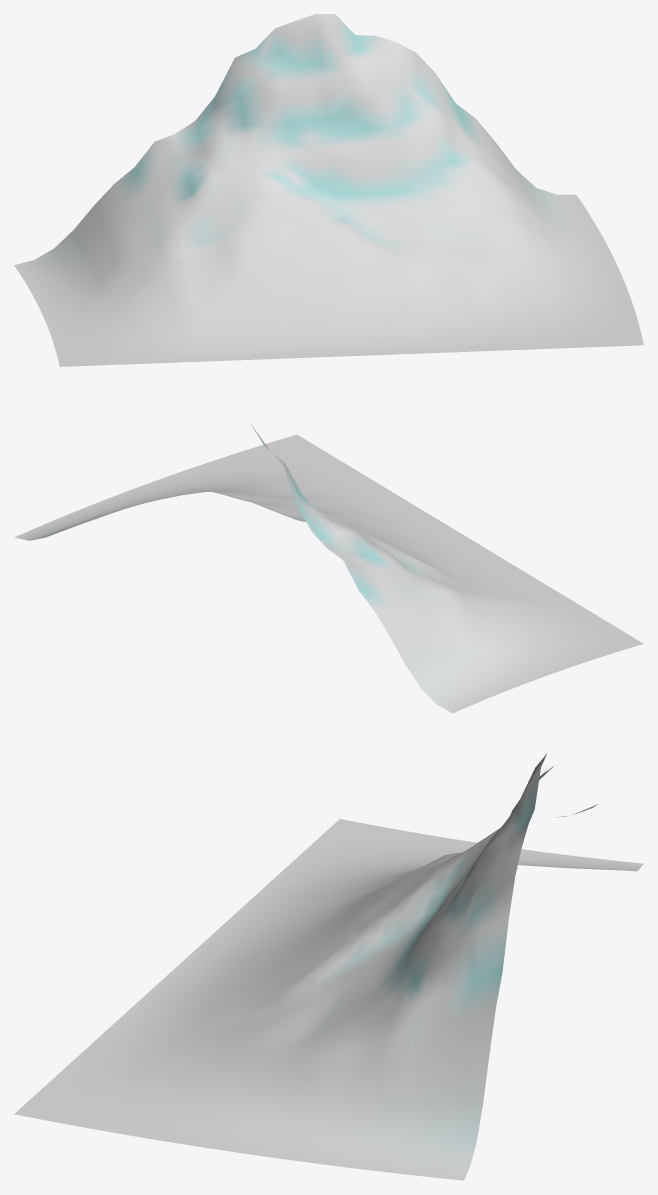
File: middle_19.glb
The picture shows the model from 3 angles, top to bottom: view 1: azimuth 30°, elevation 25°; view 2: azimuth 150°, elevation 25°; view 3: azimuth 270°, elevation 25°; orthographic projection. The views are drawn at different scales.
Visible parts, largest first — view 1: Mountain; view 2: Mountain; view 3: Mountain.
Boxes of the visible parts, x1=… form: Mountain: x1=14, y1=14, x2=643, y2=366; Mountain: x1=14, y1=423, x2=643, y2=713; Mountain: x1=14, y1=754, x2=643, y2=1180.
Size of the model in its own units: 666 by 241 by 490.
